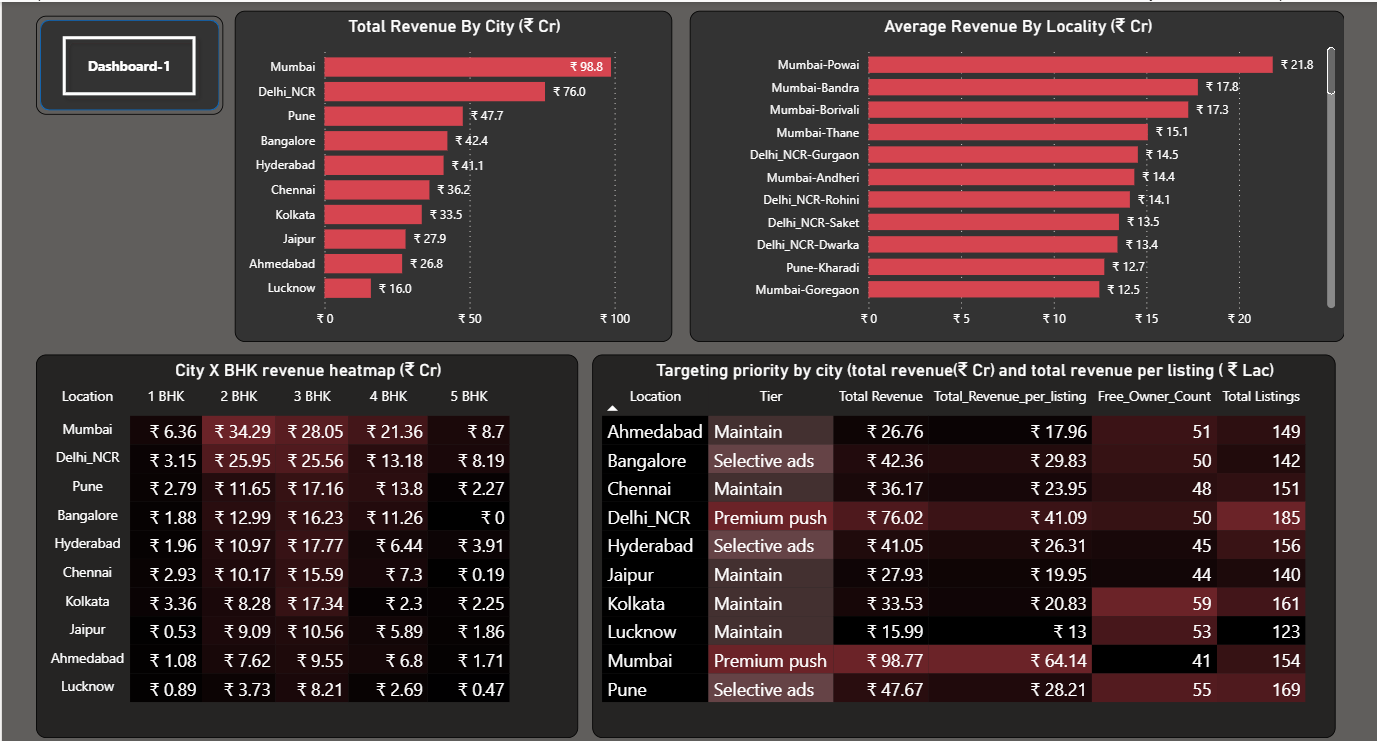

This screenshot's page, from the dashboard's own definition file:
{"tool":"powerbi","page":{"name":"Dashboard-2","canvas":[1280,720],"ordinal":1},"visuals":[{"type":"pivotTable","title":"City X BHK revenue heatmap (₹ Cr)","fields":{"Rows":["MB.Location"],"Values":["MB.Total Revenue"],"Columns":["MB.BHK_with_unit"]},"box":[0,344.8,530.7,375.4],"z":2000},{"type":"tableEx","title":"Targeting priority by city (total revenue(₹ Cr) and total revenue per listing ( ₹ Lac)","fields":{"Values":["MB.Location","MB.Tier","MB.Total Revenue","MB.Total_Revenue_per_listing","MB.Free_Owner_Count","MB.Total Listings"]},"box":[544.2,344.8,727.6,375.4],"z":3000},{"type":"clusteredBarChart","title":"Total Revenue By City (₹ Cr)","fields":{"Category":["MB.Location"],"Y":["MB.Total Comission"]},"box":[0,8.6,622.4,324.1],"z":4000},{"type":"clusteredBarChart","title":"Average Revenue By Locality (₹ Cr)","fields":{"Category":["MB.Location_Locality"],"Y":["MB.Total Revenue"]},"box":[639.5,8.6,640.8,324.1],"z":5000}]}

Visuals, with their boxes on the page's 1280x720 design canvas (x1, y1, x2, y2). These are canvas units, not pixel positions in the 1377x741 screenshot, which may show the page scaled, cropped or inside an application window:
"City X BHK revenue heatmap (₹ Cr)" pivotTable: <bbox>0, 345, 531, 720</bbox>
"Targeting priority by city (total revenue(₹ Cr) and total revenue per listing ( ₹ Lac)" tableEx: <bbox>544, 345, 1272, 720</bbox>
"Total Revenue By City (₹ Cr)" clusteredBarChart: <bbox>0, 9, 622, 333</bbox>
"Average Revenue By Locality (₹ Cr)" clusteredBarChart: <bbox>640, 9, 1280, 333</bbox>
